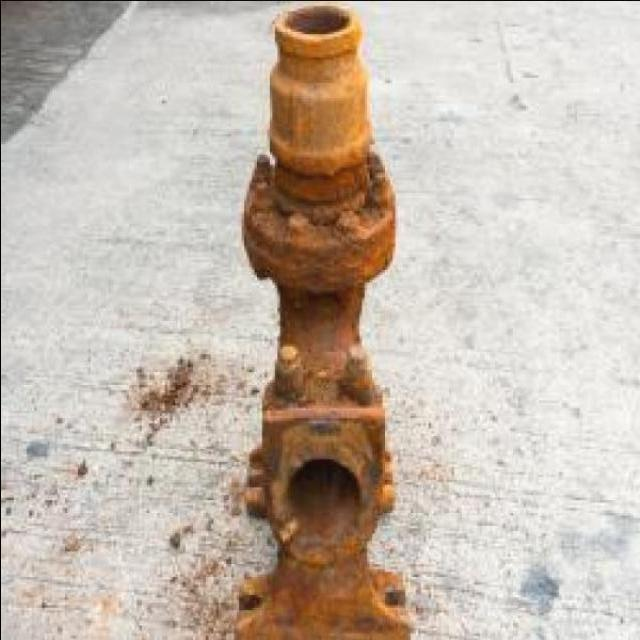corrosion: (228, 2, 414, 638)
